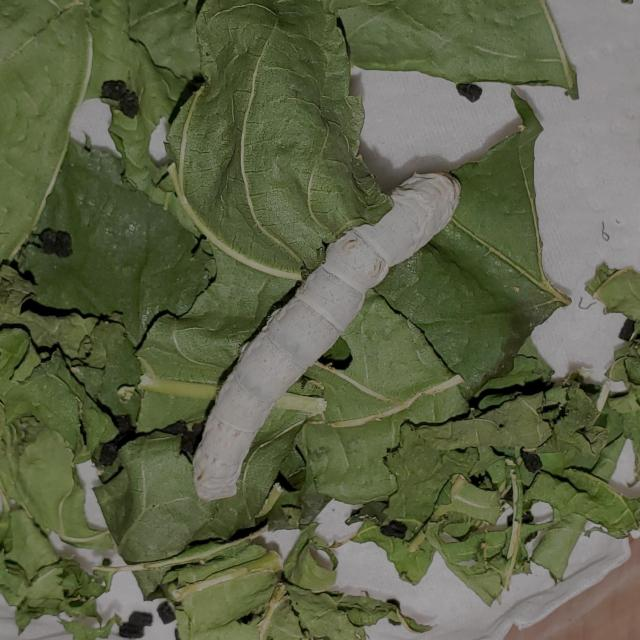Healthy: (180, 163, 463, 508)
